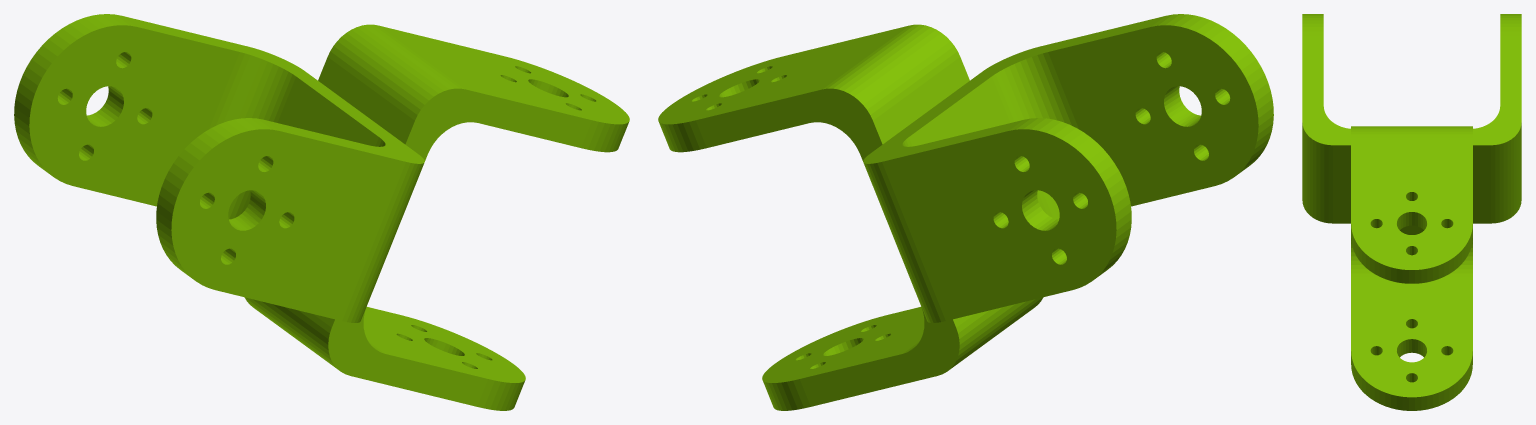
File: hexy_test_5_Coxa_2_vis_1.dae
The picture shows the model from 3 angles, left to right: view 1: azimuth 30°, elevation 25°; view 2: azimuth 150°, elevation 25°; view 3: azimuth 270°, elevation 25°; orthographic projection. The views are drawn at different scales.
Visible parts, largest first — view 1: node; view 2: node; view 3: node.
Boxes of the visible parts, <box> form: node: <box>14,14,629,410</box>; node: <box>658,14,1273,410</box>; node: <box>1302,14,1521,410</box>.
Size of the model in its own units: 0.3463 by 0.252 by 0.18.
